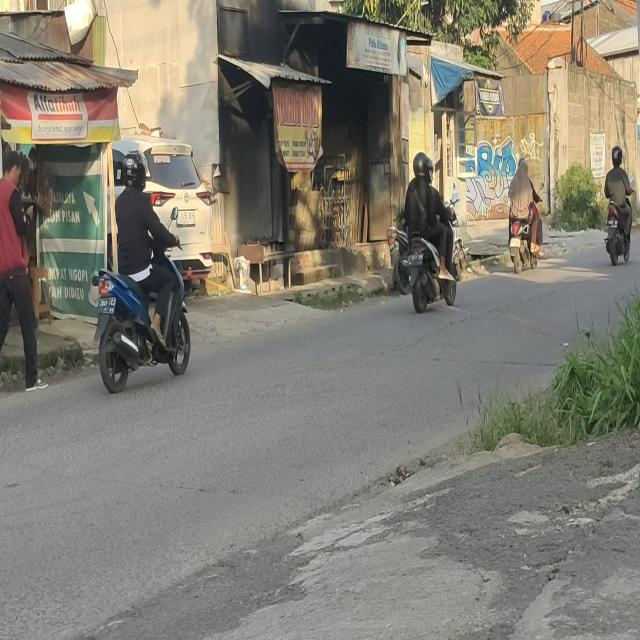helmet: (124, 149, 148, 192), (414, 153, 428, 179), (426, 155, 436, 183), (612, 146, 623, 167)
no-helmet: (519, 162, 529, 176)
